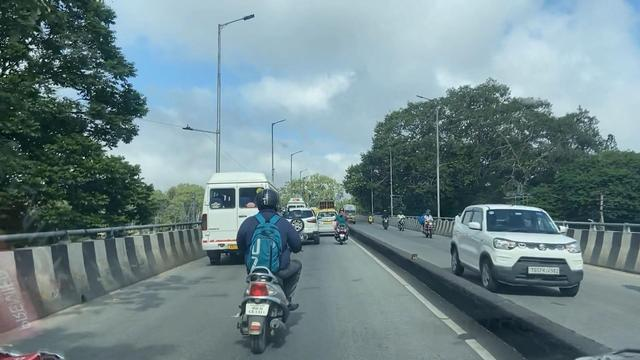LMV: (234, 192, 299, 348), (334, 206, 345, 241)
